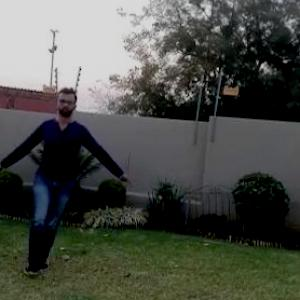land: (0, 95, 119, 262)
